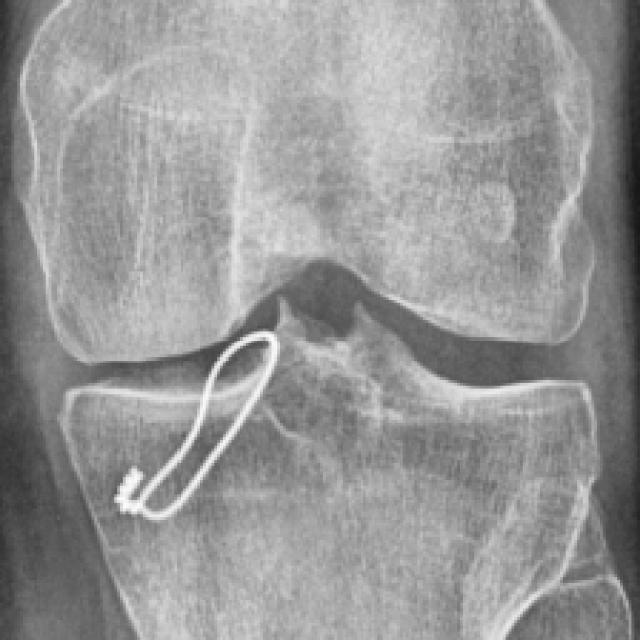femur: (19, 0, 594, 364)
tibia: (59, 298, 600, 640)
